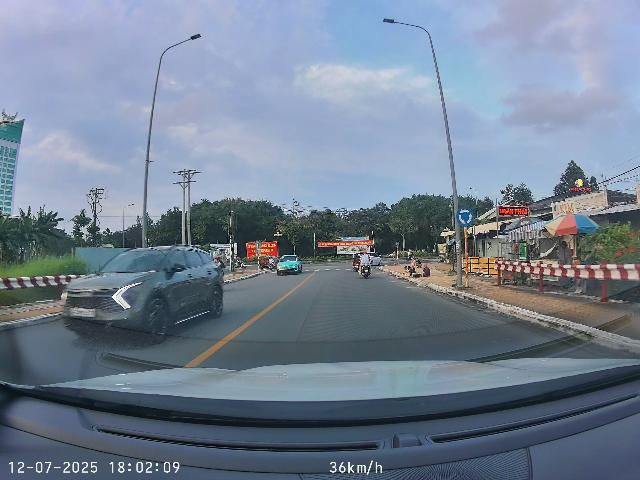303-noi-giao-nhau-chay-theo-vong-xuyen: (456, 206, 475, 227)
